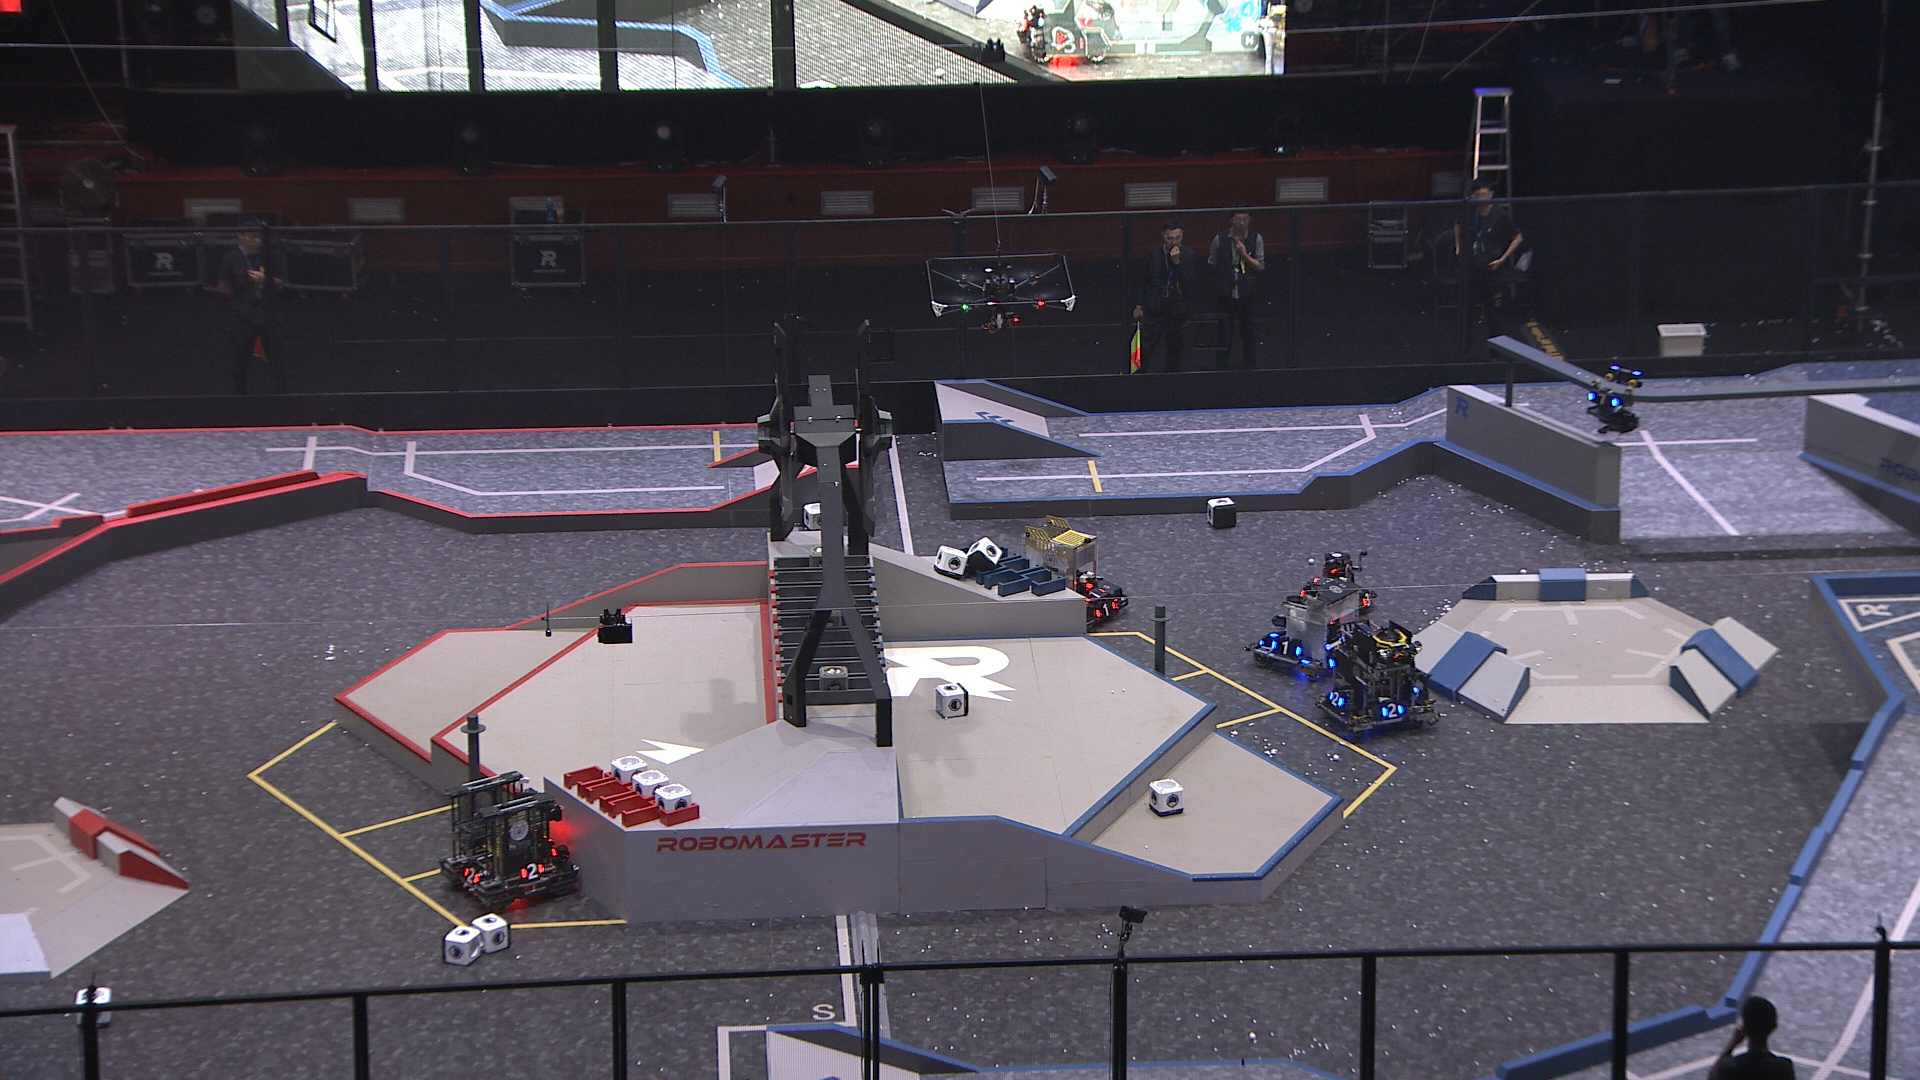armor: (1273, 638, 1302, 659), (1092, 599, 1120, 618), (1585, 390, 1619, 406), (458, 866, 481, 887), (518, 861, 545, 880), (1084, 585, 1106, 600), (1382, 703, 1404, 717), (1328, 688, 1342, 709), (1360, 591, 1373, 605)
car: (436, 765, 582, 911), (1319, 622, 1441, 741), (1249, 572, 1367, 687), (1021, 517, 1131, 633), (1295, 547, 1378, 622)
watcher: (1582, 363, 1643, 440)
